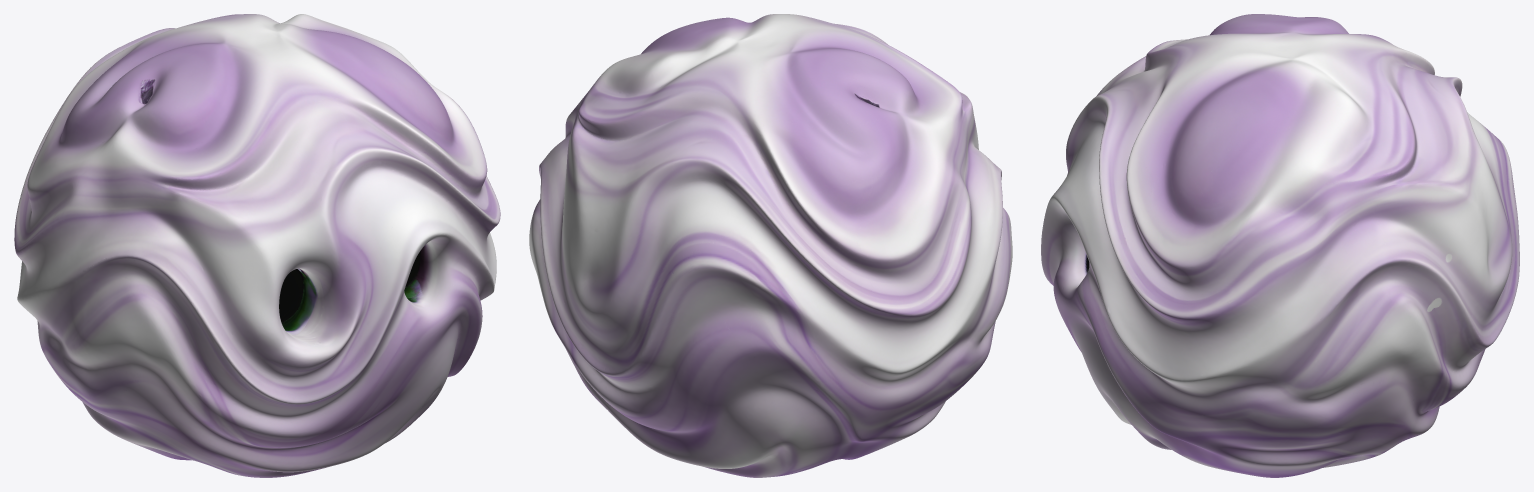
File: sinusoid-frightened.glb
3 views of the same model, side by side, from view 1: azimuth 30°, elevation 25°; view 2: azimuth 150°, elevation 25°; view 3: azimuth 270°, elevation 25° (orthographic).
Size of the model in its own units: 1.9 by 1.75 by 1.87.
Materials: 1 (1 with a texture image).
